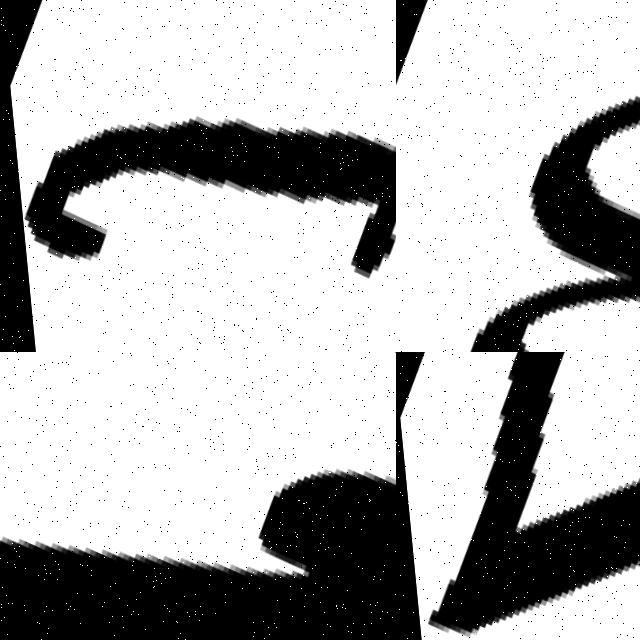F: (17, 117, 396, 277)
R: (0, 352, 396, 640)
W: (396, 0, 640, 352)
Z: (396, 352, 640, 640)
